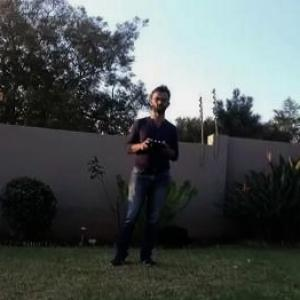follow: (101, 76, 180, 269)
